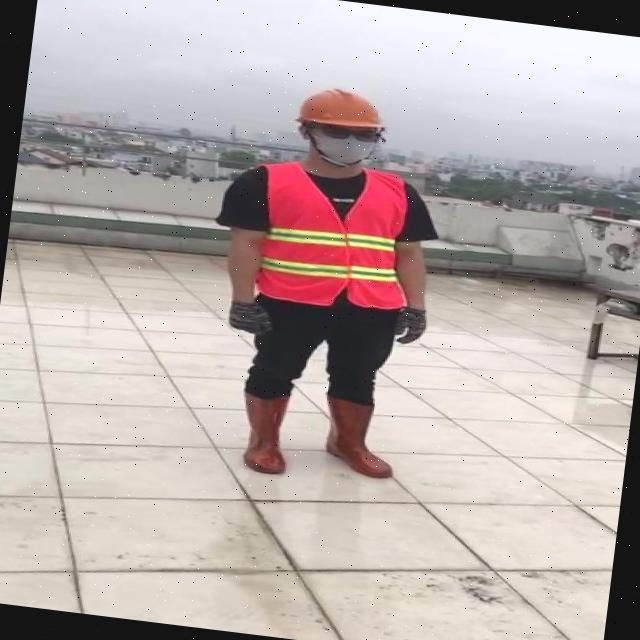boots: (316, 393, 400, 479), (230, 384, 300, 474)
helmet: (294, 81, 391, 133)
vest: (250, 158, 422, 310)
